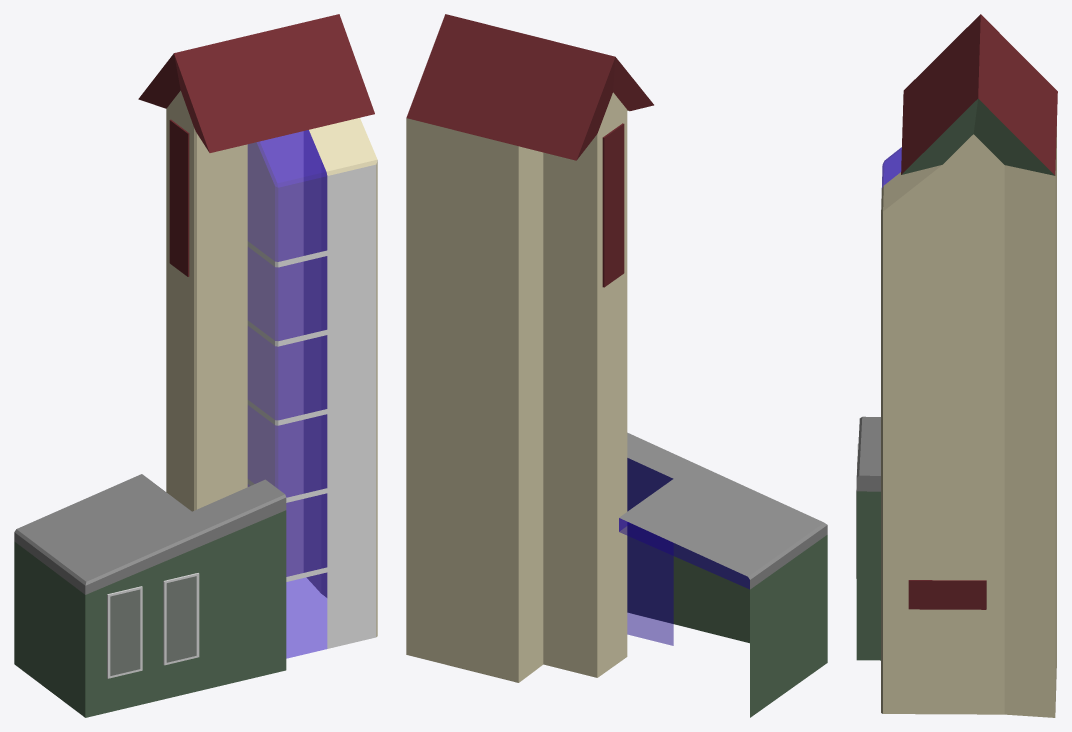
File: Building07fbx.fbx
The picture shows the model from 3 angles, left to right: view 1: azimuth 30°, elevation 25°; view 2: azimuth 150°, elevation 25°; view 3: azimuth 270°, elevation 25°; orthographic projection. The views are drawn at different scales.
Parts seen in each view (by area): view 1: Building07; view 2: Building07; view 3: Building07.
Boxes of the visible parts, <box> form: Building07: <box>14,14,377,717</box>; Building07: <box>406,14,827,717</box>; Building07: <box>856,14,1057,717</box>.
Bounding box in the file's own units: 1794 × 3239 × 957.
